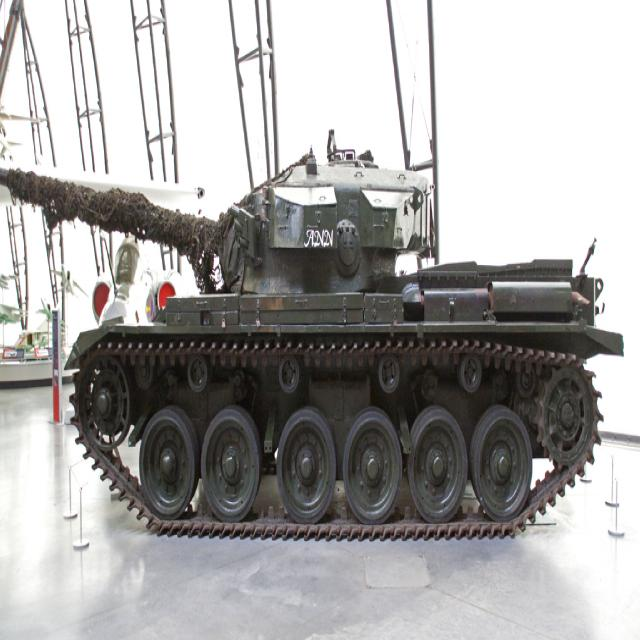tank: (0, 127, 624, 541)
